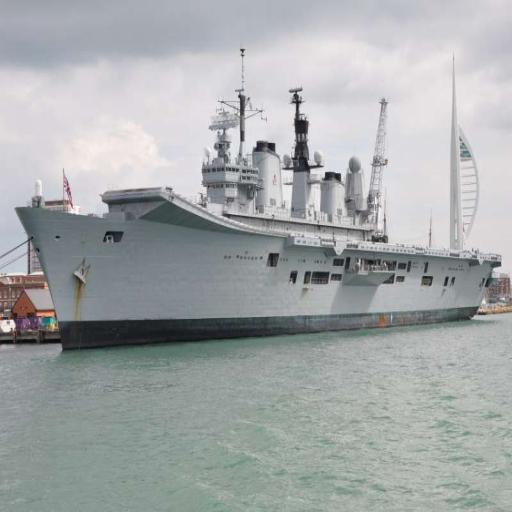Portanaves: (15, 49, 507, 354)
